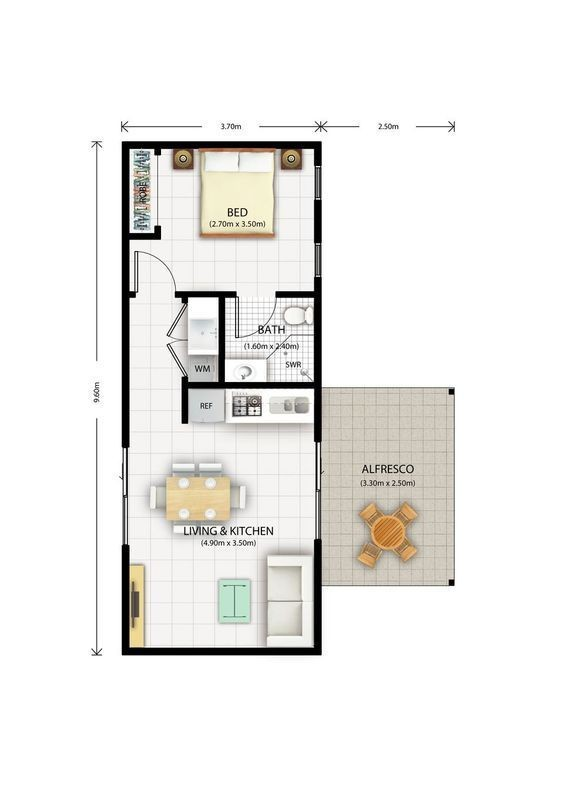door: (129, 242, 186, 298), (238, 298, 280, 347)
room: (111, 133, 318, 666)
wall: (124, 135, 326, 164), (116, 140, 130, 445), (117, 644, 320, 659), (182, 374, 314, 397), (308, 536, 332, 660), (311, 280, 328, 441), (117, 545, 140, 660), (186, 377, 311, 395), (214, 295, 227, 382), (308, 207, 328, 239)
window: (309, 435, 336, 535), (116, 446, 136, 540)
